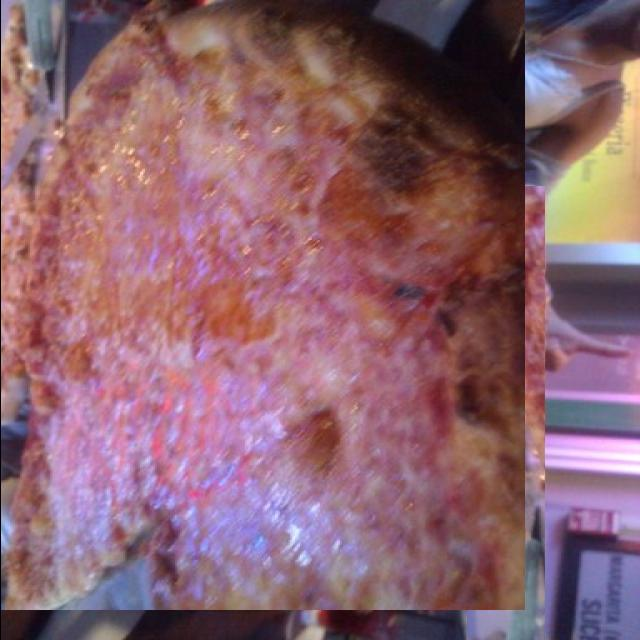pizza: (0, 0, 524, 610), (466, 186, 544, 640)
